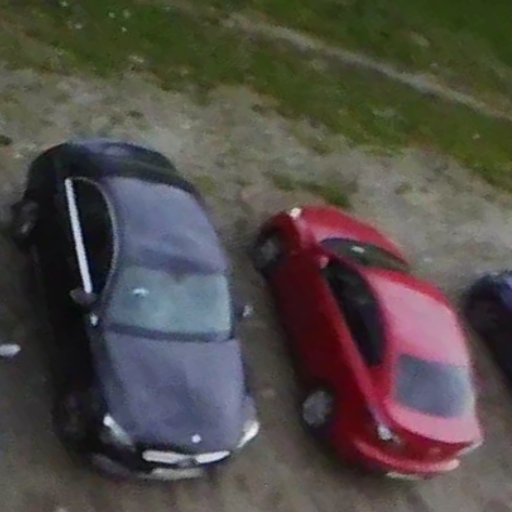Car: (10, 139, 258, 483), (257, 206, 479, 482)
